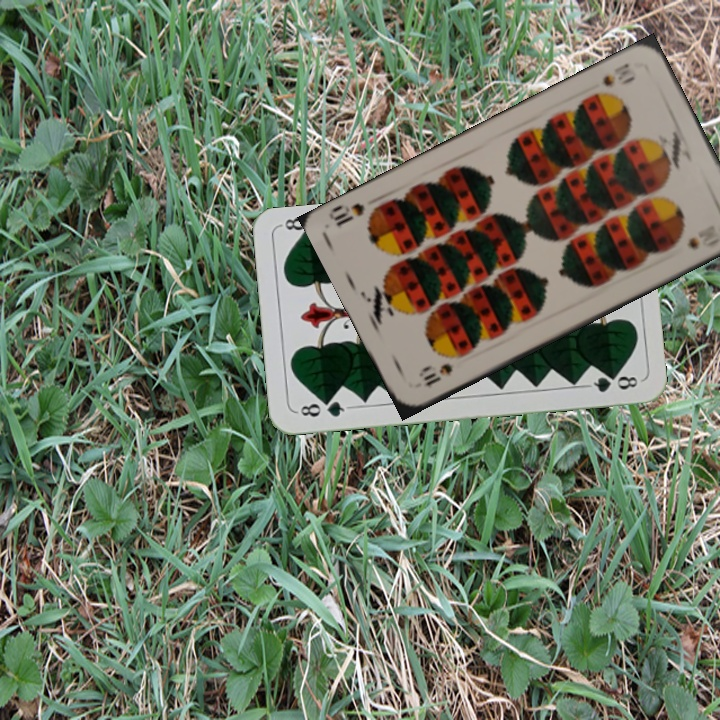G8: (293, 396, 352, 420)
S10: (416, 352, 464, 390), (598, 59, 637, 89)
